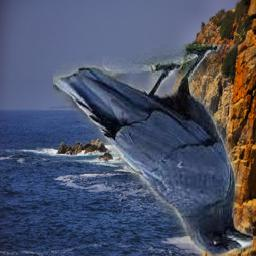Crow: (53, 44, 253, 256)
